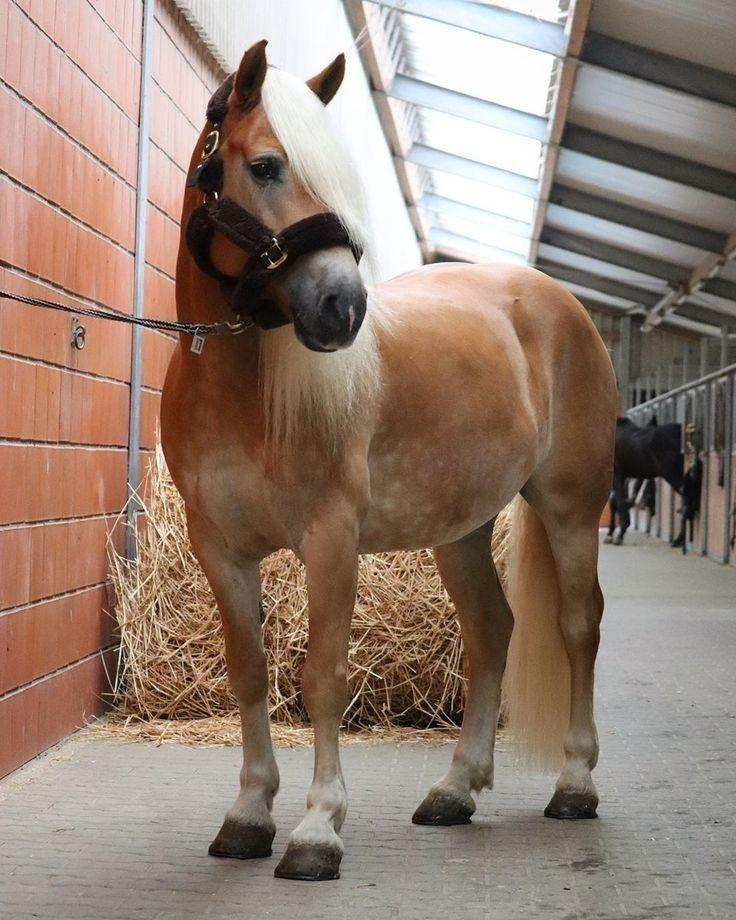horse: (158, 37, 621, 881), (602, 414, 701, 546)
